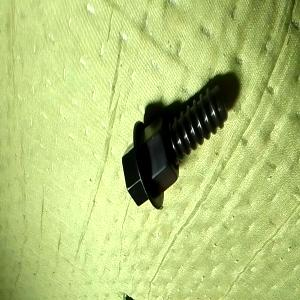parafuso: (122, 83, 228, 210)
